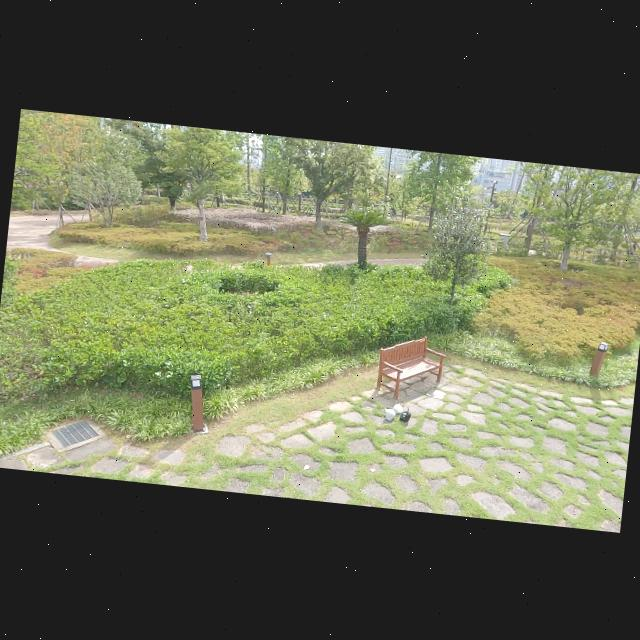trash: (396, 405, 414, 424), (380, 404, 397, 422), (388, 398, 404, 415)
